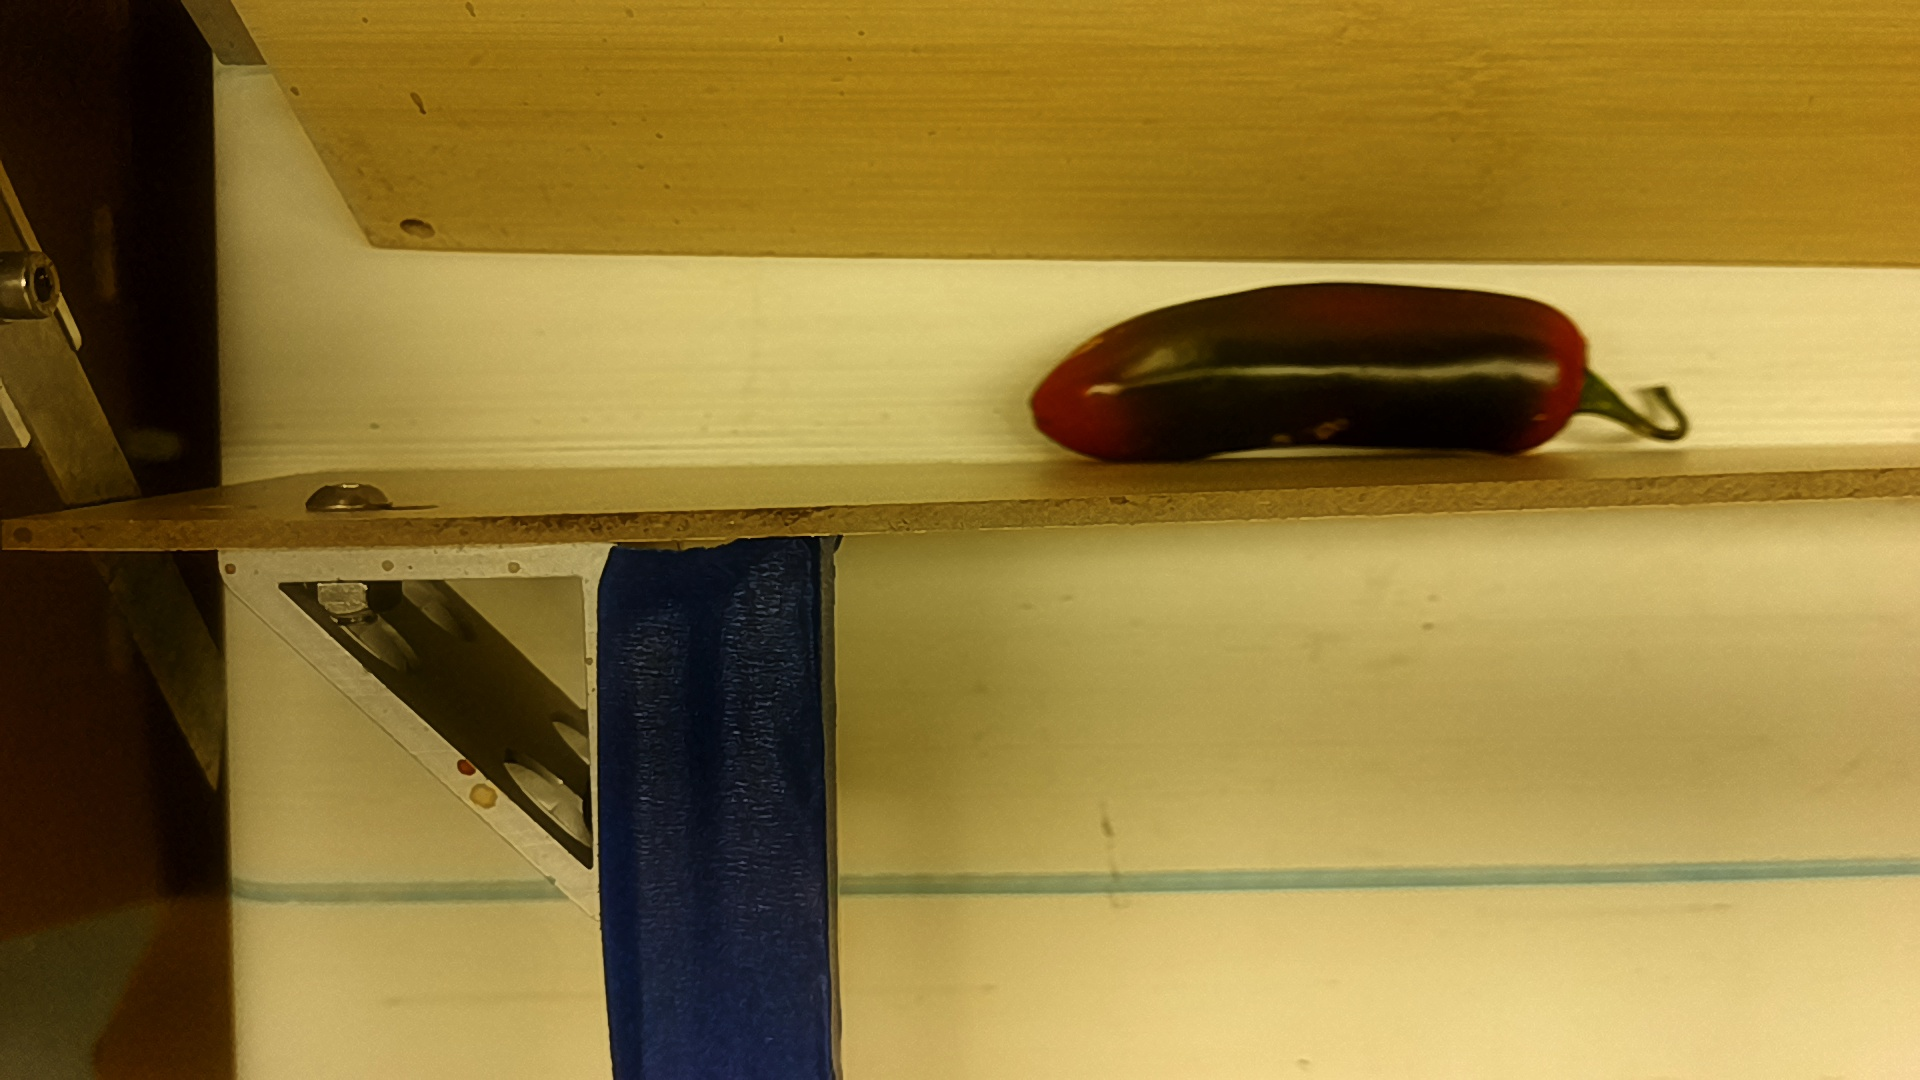Cut Point: (1531, 293, 1611, 448)
